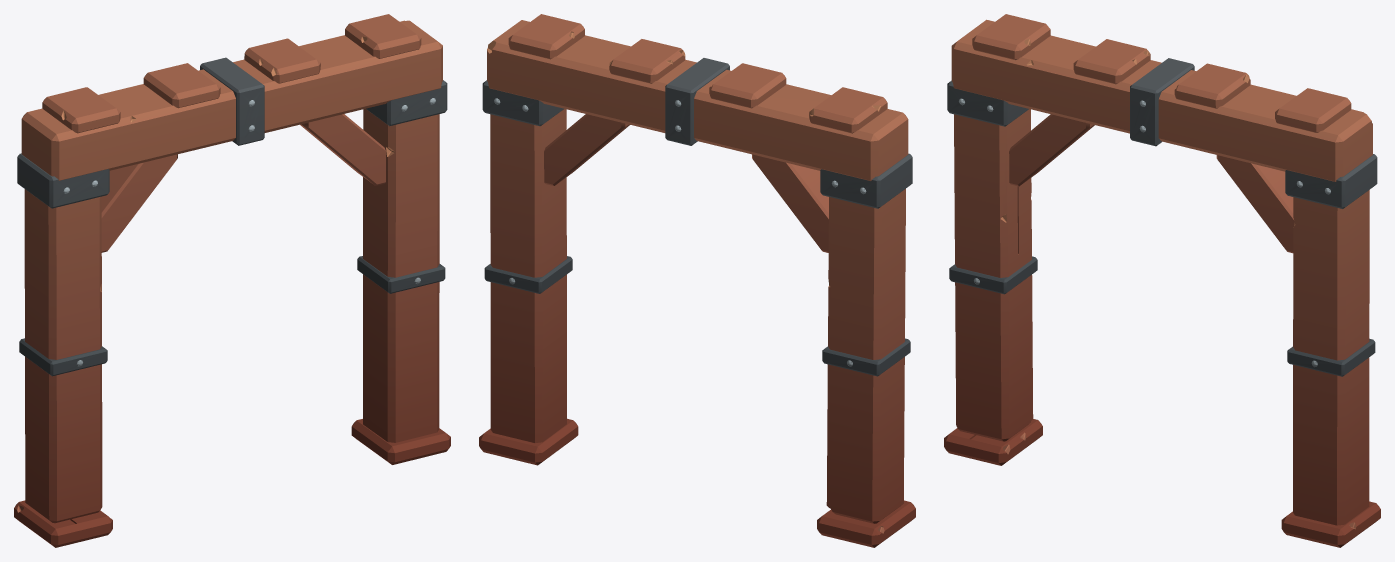
Rendered from timber_frame_intact.glb.
The picture shows the model from 3 angles, left to right: view 1: azimuth 30°, elevation 25°; view 2: azimuth 150°, elevation 25°; view 3: azimuth 330°, elevation 25°; orthographic projection.
Parts seen in each view (by area): view 1: timber_frame_intact; view 2: timber_frame_intact; view 3: timber_frame_intact.
Boxes of the visible parts, x1=… form: timber_frame_intact: x1=14, y1=14, x2=450, y2=547; timber_frame_intact: x1=479, y1=14, x2=915, y2=547; timber_frame_intact: x1=944, y1=14, x2=1380, y2=547.
Bounding box in the file's own units: 3.98 × 4 × 0.7276.
1 material, 1 textured.
